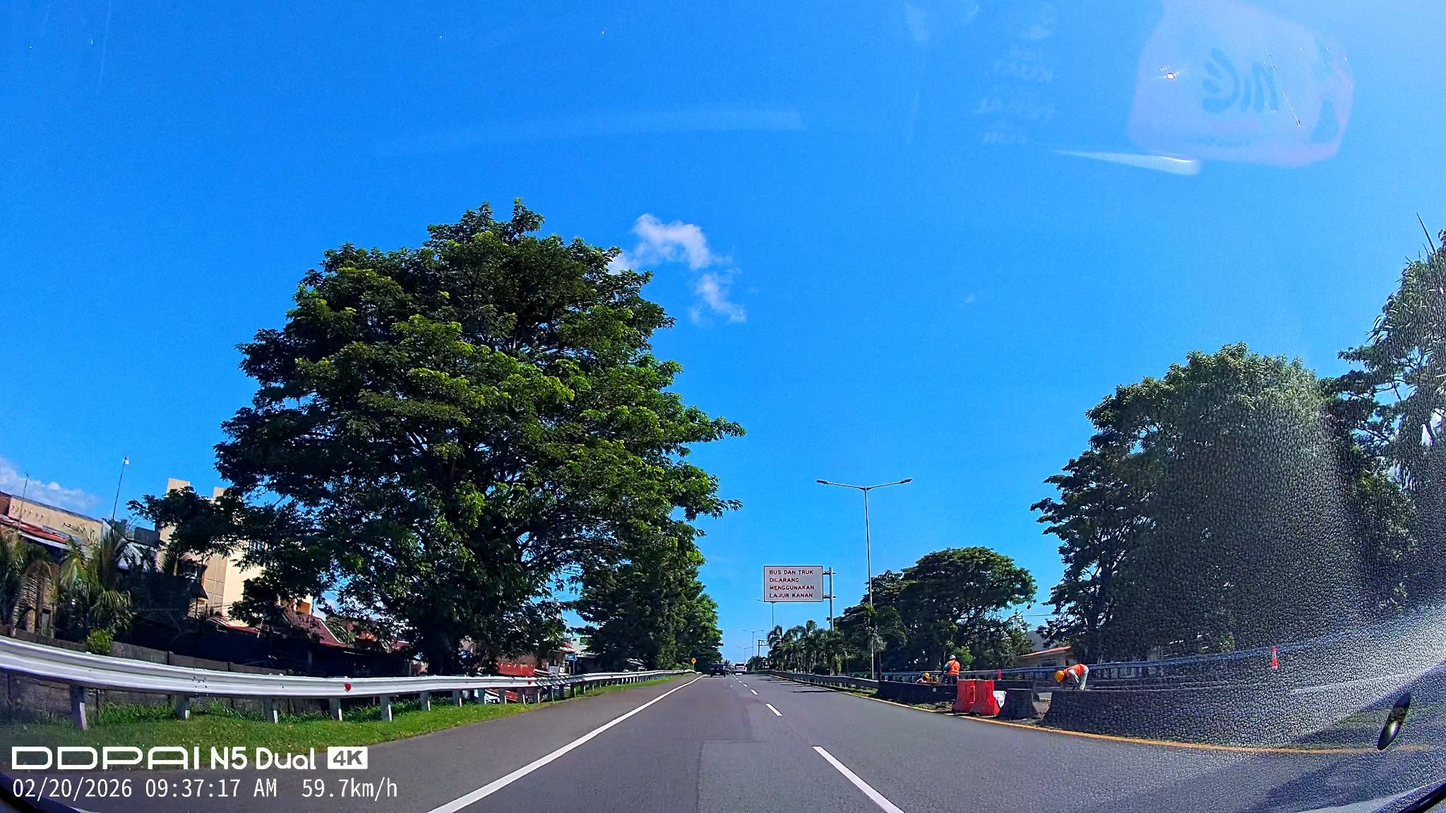rambu_teks: (764, 564, 824, 602)
